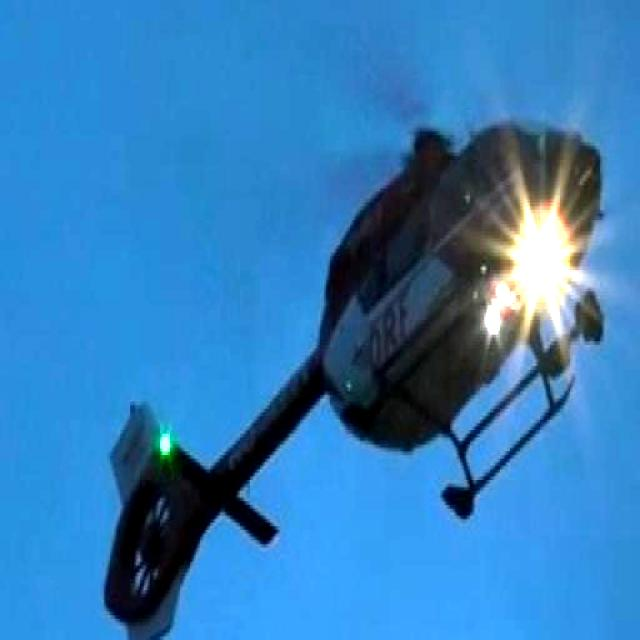drone: (98, 78, 616, 640)
